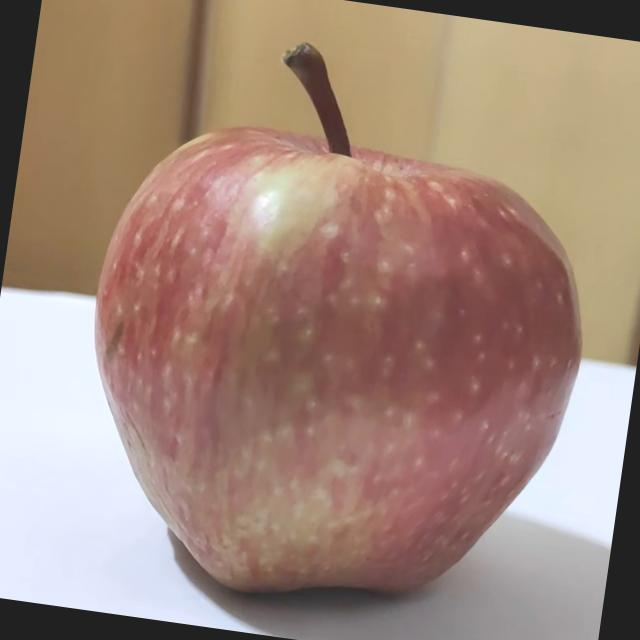apple: (48, 15, 628, 640)
